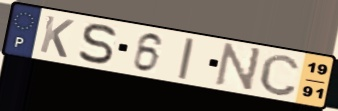6: (133, 32, 164, 74)
C: (257, 52, 302, 98)
I: (176, 36, 197, 82)
K: (37, 14, 77, 60)
N: (212, 42, 265, 95)
S: (76, 23, 119, 67)
